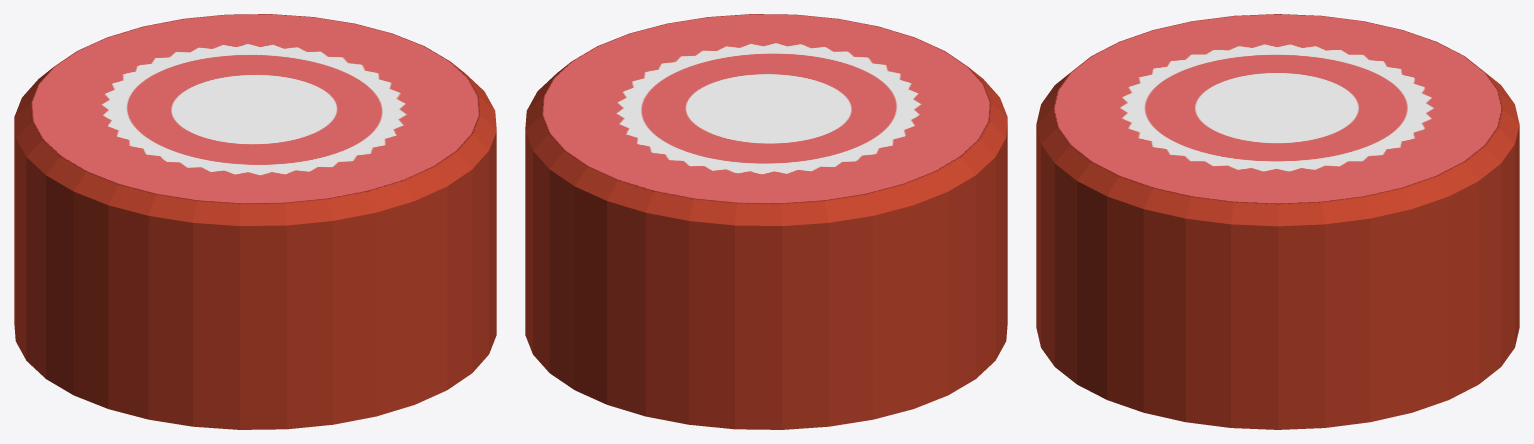
File: buttom.fbx
3 views of the same model, side by side, from view 1: azimuth 30°, elevation 25°; view 2: azimuth 150°, elevation 25°; view 3: azimuth 270°, elevation 25° (orthographic).
Visible parts, largest first — view 1: Cylinder.002; view 2: Cylinder.002; view 3: Cylinder.002.
Boxes of the visible parts, left/top/right/bottom form: Cylinder.002: left=14, top=14, right=496, bottom=429; Cylinder.002: left=525, top=14, right=1007, bottom=429; Cylinder.002: left=1036, top=14, right=1519, bottom=429.
Bounding box in the file's own units: 165 × 165 × 82.68.
